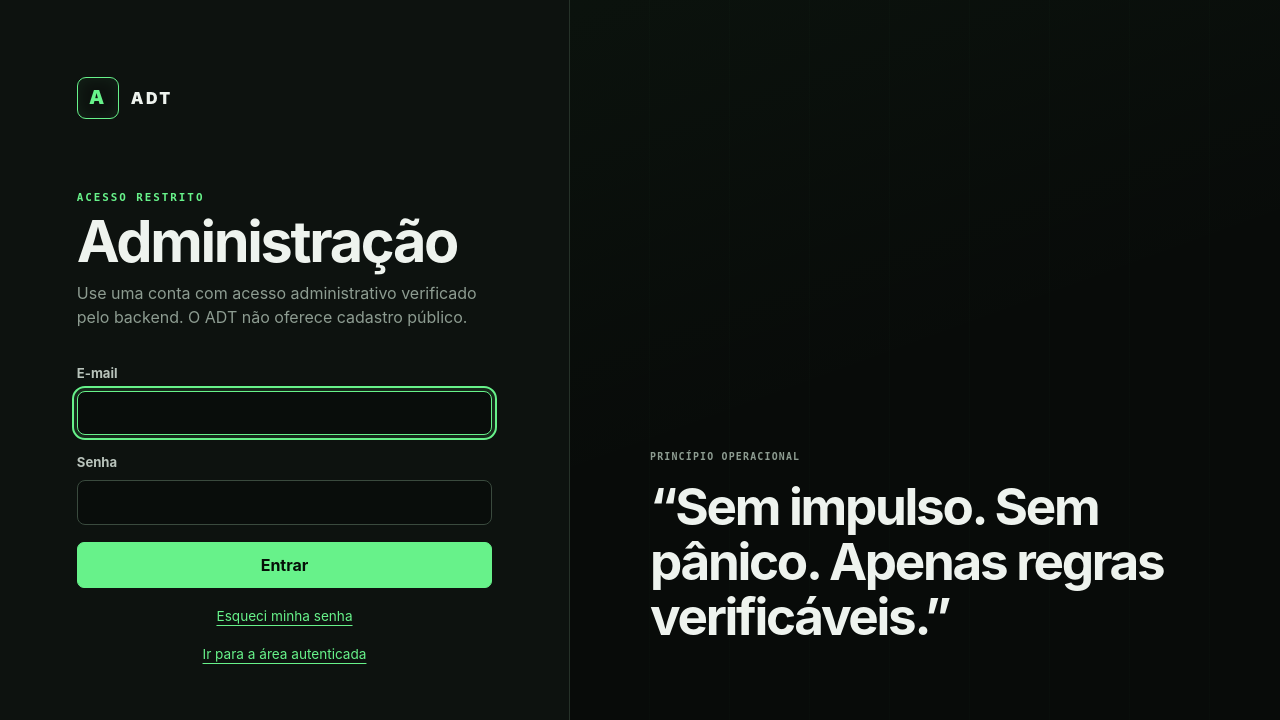
Test: autenticação e autorização › faz login válido e confirma a autorização no backend
In the field labelled "E-mail": (284, 413) x1=77 y1=391 x2=492 y2=435, type "admin@example.com"
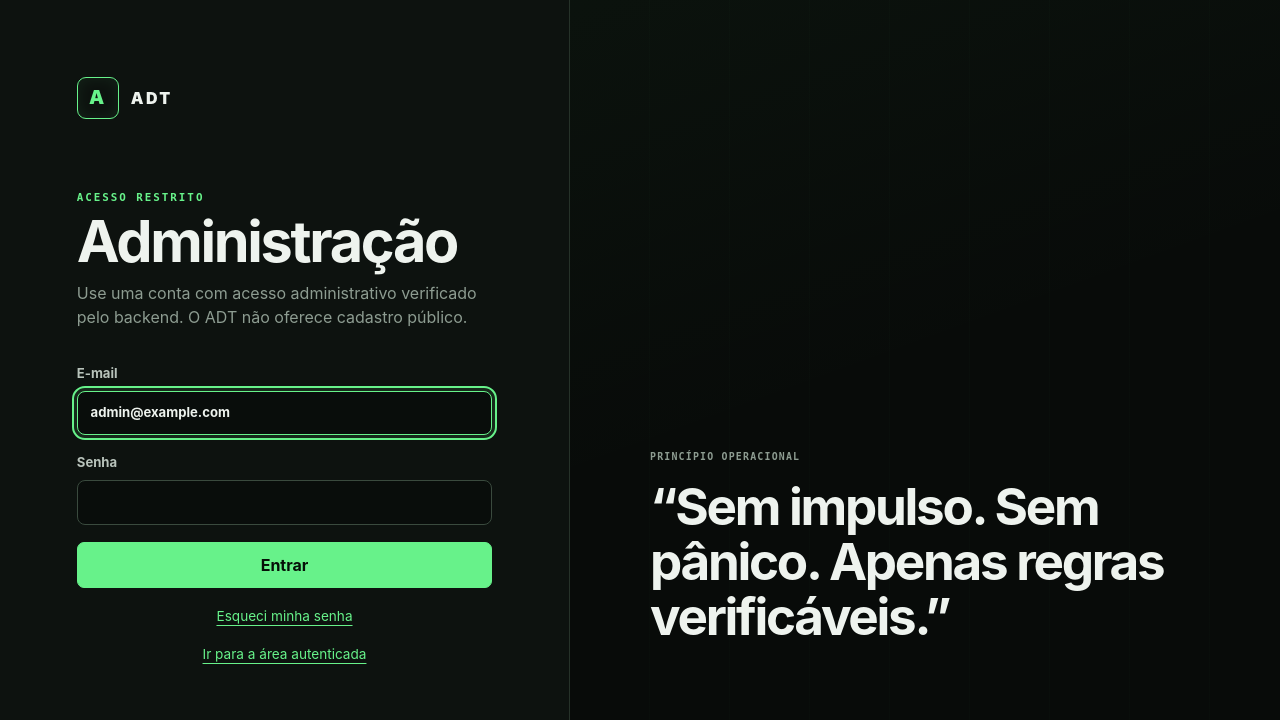
In the password field labelled "Senha": (284, 502) x1=77 y1=480 x2=492 y2=524, type "senha-segura"
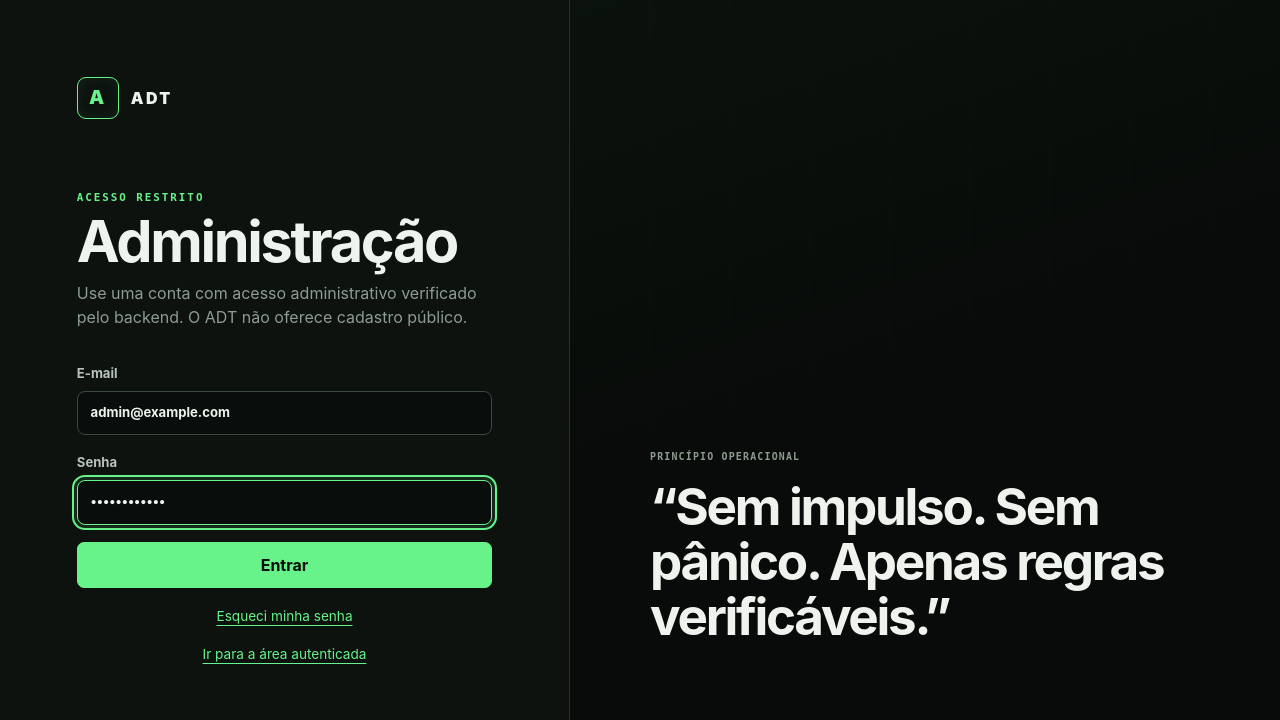
Click the button "Entrar": (284, 565) x1=77 y1=542 x2=492 y2=588
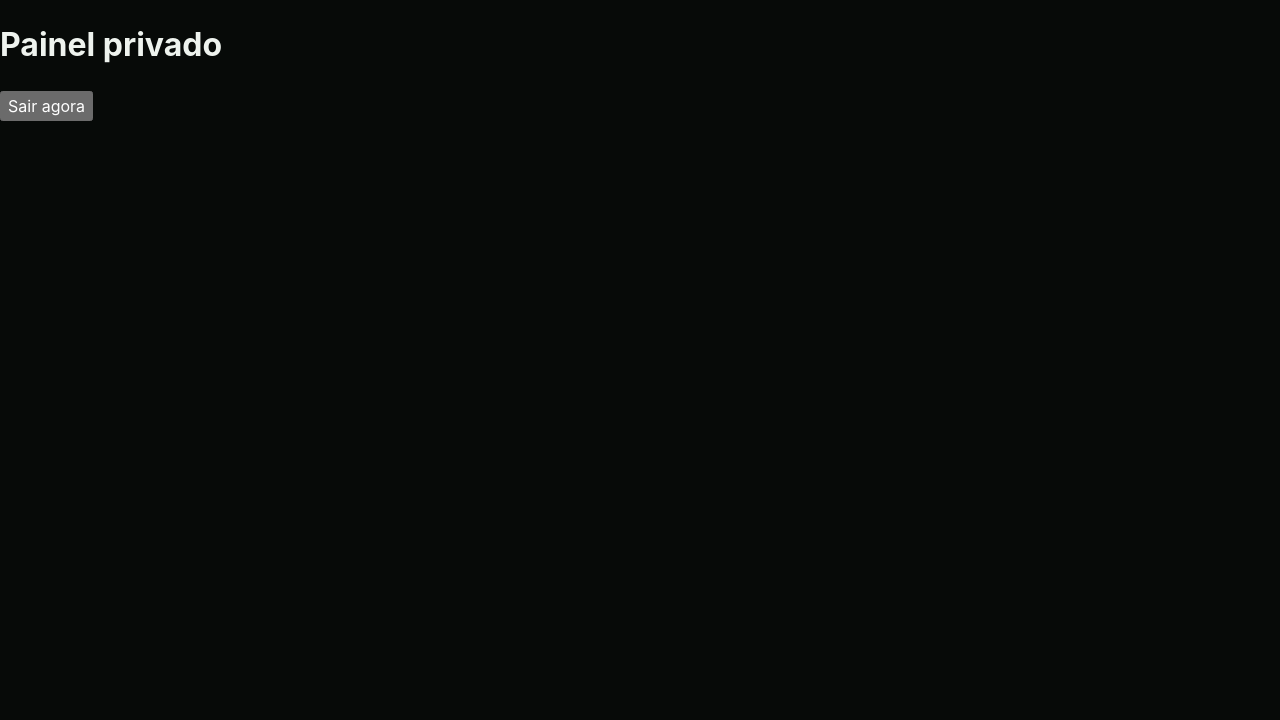
Result: the heading "Painel privado" is shown at x1=0 y1=25 x2=222 y2=64
